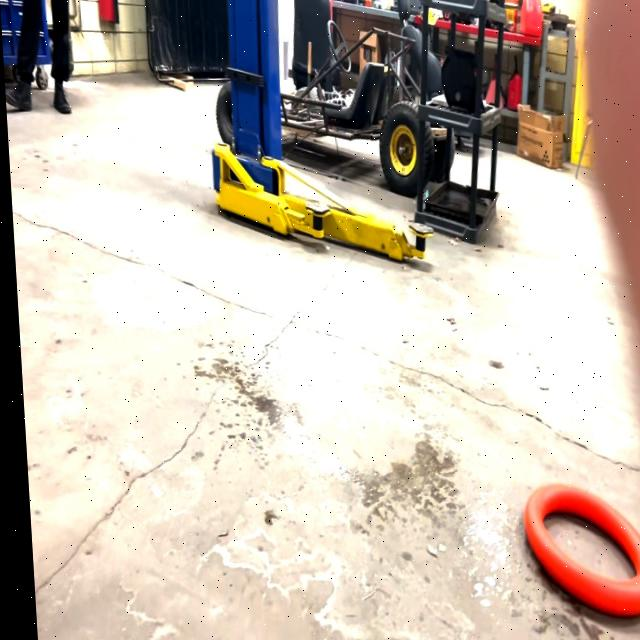note: (521, 474, 640, 620)
